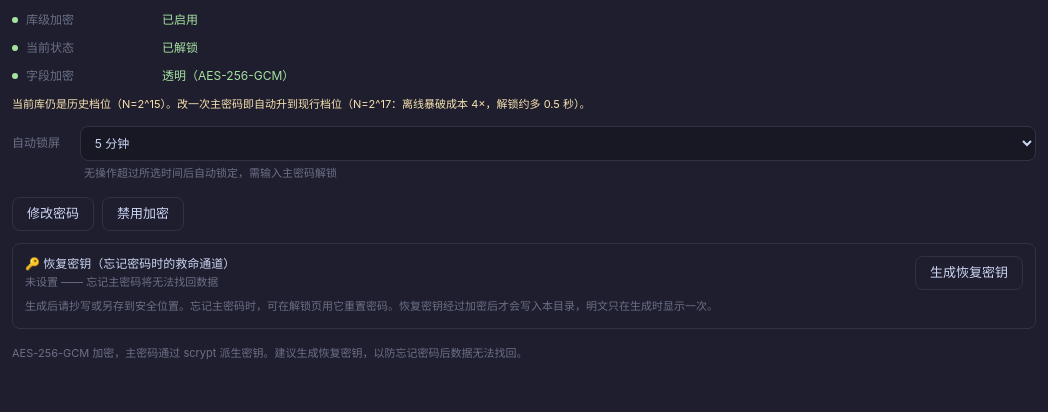
Test: ① 写失败要回滚、要说话 › resolve 的 {ok:false} ⇒ 下拉回到读到的「5 分钟」，屏上是「操作失败：数据库被锁定」，并留一条痕
Select "1 分钟" in the dropdown at (558, 143), box [80,126,1036,161]
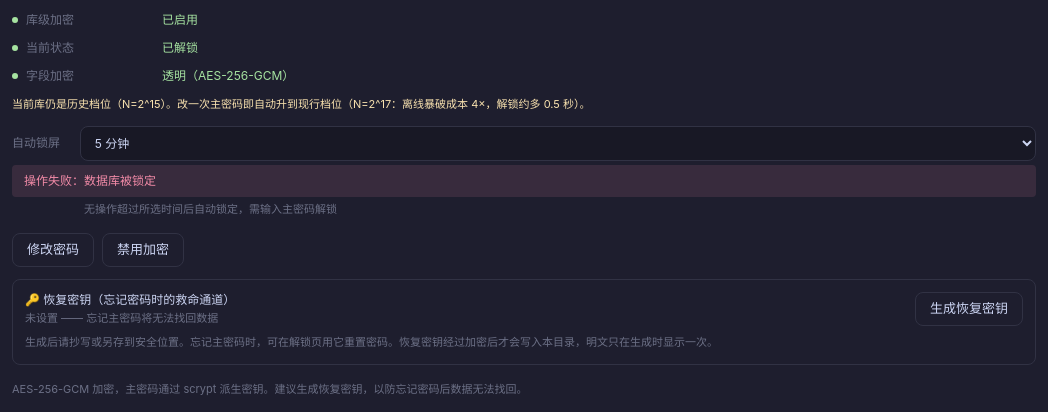
Now the text "操作失败：数据库被锁定" is shown, box [12,165,1036,197]
